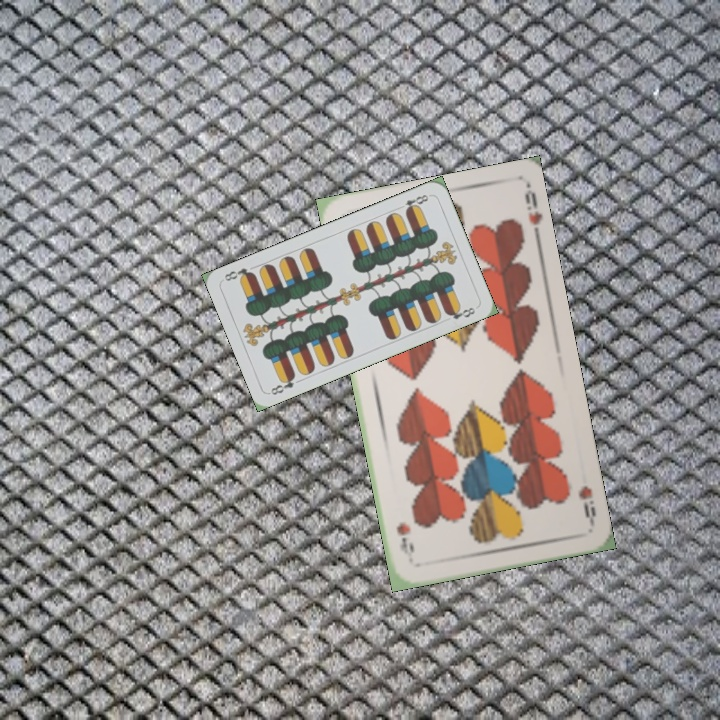E8: (394, 190, 433, 215), (266, 370, 298, 398)
H9: (574, 481, 599, 526)
